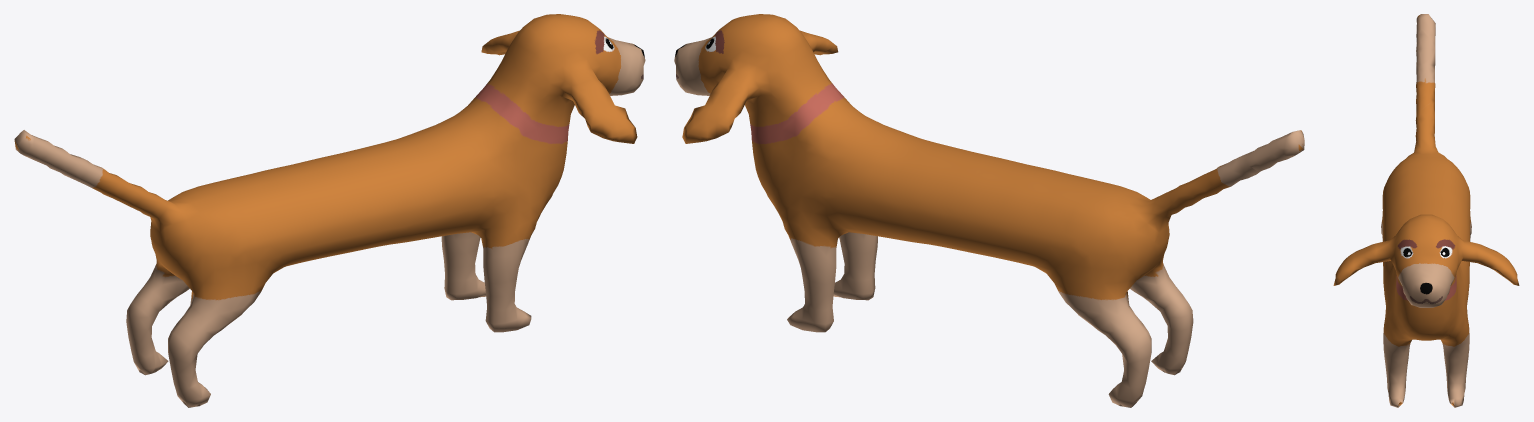
Rendered from dog.obj.
3 renders of one model, left to right at view 1: azimuth 30°, elevation 25°; view 2: azimuth 150°, elevation 25°; view 3: azimuth 270°, elevation 25°, orthographic. The views are drawn at different scales.
Size of the model in its own units: 7.41 by 3.35 by 2.57.
1 material, 1 textured.
